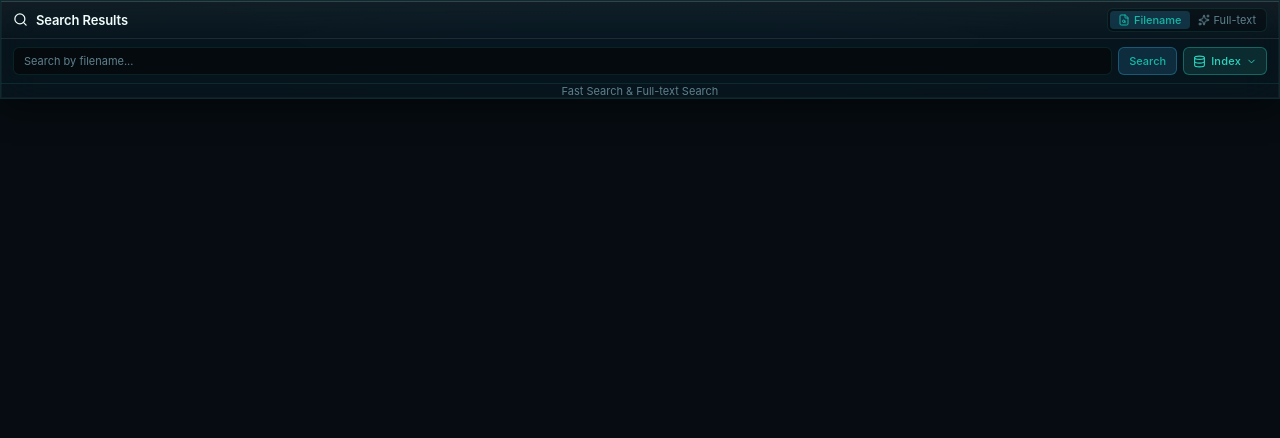
Test: Phase 13: Search, Indexing, and Text Extraction Evolution › Task 1-1: Index Repair Queue Integration › renders repair queue English translations when language is toggled
The width and height of the screenshot is (1280, 438).
Click the button "Index" at (1225, 61), box [1183,47,1267,75]
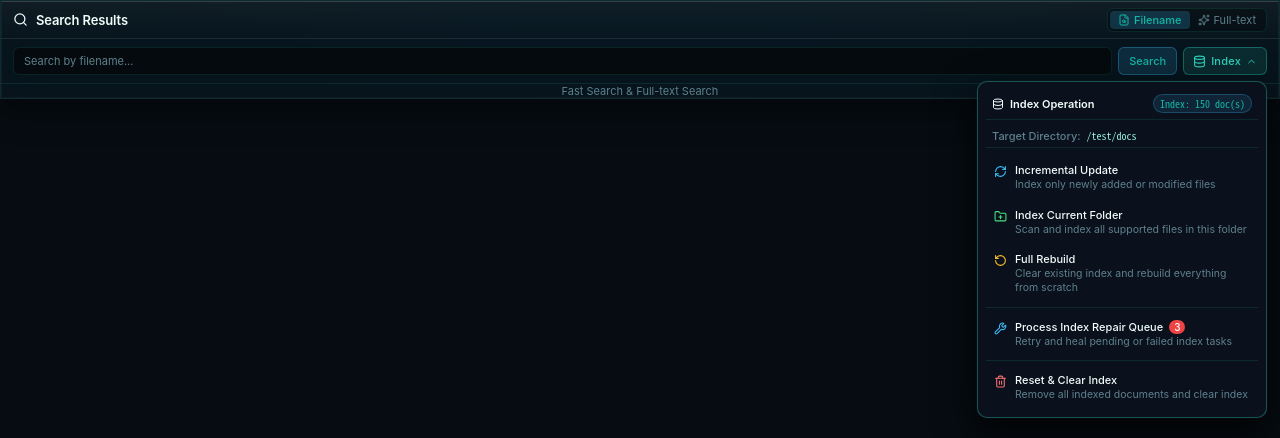
Expected: the text "Process Index Repair Queue" is shown, [1015,320,1163,334]
Expected: the text "3" is shown, [1169,320,1186,334]
